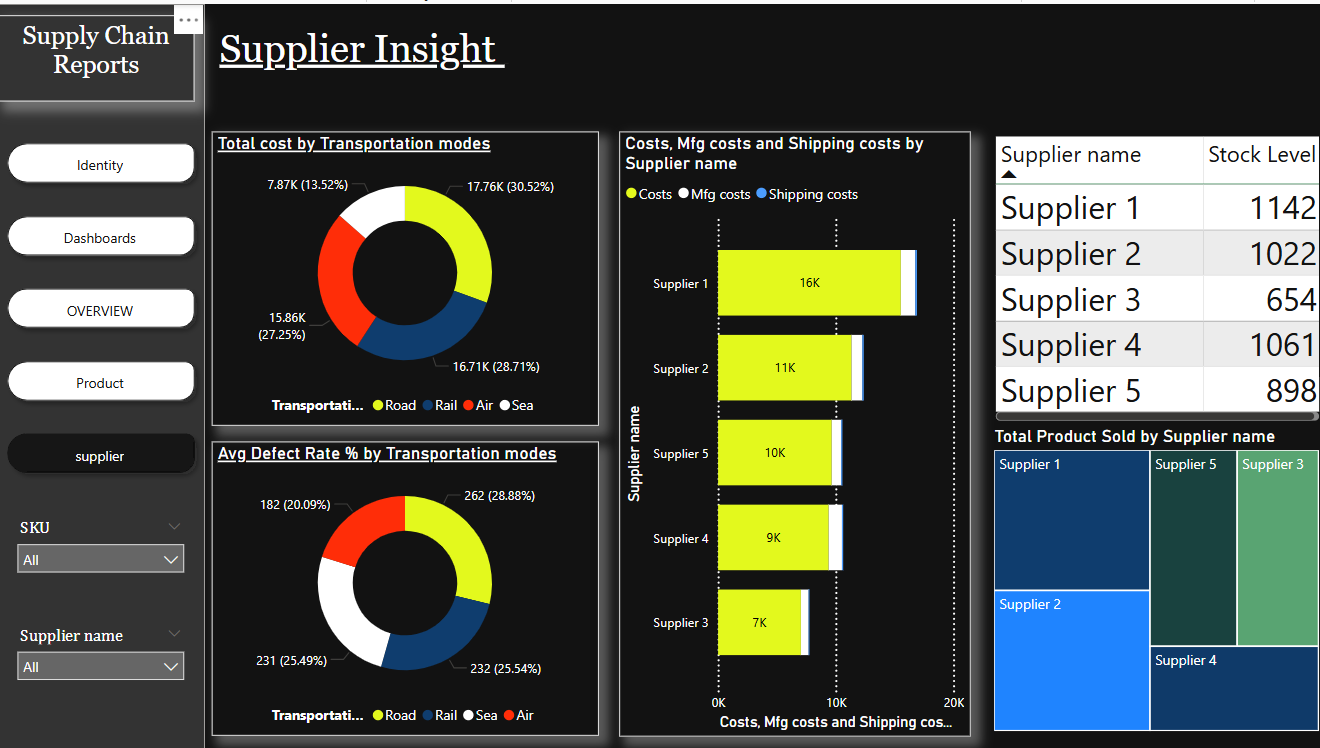

What the dashboard file says about the page in this screenshot:
{"tool":"powerbi","page":{"name":"supplier","canvas":[1280,720],"ordinal":4},"visuals":[{"type":"donutChart","fields":{"Category":["supply_chain_data.Transportation modes"],"Y":["_Measure.Total  cost"]},"box":[206.3,122.6,373.7,284.2],"z":0},{"type":"shape","box":[0,0,199.3,720.2],"z":1000},{"type":"donutChart","fields":{"Category":["supply_chain_data.Transportation modes"],"Y":["_Measure.Avg Defect Rate %"]},"box":[206.3,422.7,373.7,284.2],"z":2000},{"type":"barChart","fields":{"Category":["supply_chain_data.Supplier name"],"Y":["Sum(supply_chain_data.Costs)","Sum(supply_chain_data.Mfg costs)","Sum(supply_chain_data.Shipping costs)"]},"box":[600.2,122.6,339,584.3],"z":3000},{"type":"tableEx","fields":{"Values":["supply_chain_data.Supplier name","_Measure.Stock Level"]},"box":[956.6,122.6,323.2,284.2],"z":4000},{"type":"treemap","fields":{"Group":["supply_chain_data.Supplier name"],"Values":["_Measure.Total Product Sold"]},"box":[957,407,323,300],"z":5000},{"type":"textbox","box":[209.2,17.3,301.5,60.6],"z":6000},{"type":"pageNavigator","box":[0,126,199.3,336.3],"z":7000},{"type":"slicer","fields":{"Values":["supply_chain_data.SKU"]},"box":[8.6,491.6,181,78.3],"z":8000},{"type":"slicer","fields":{"Values":["supply_chain_data.Supplier name"]},"box":[8.6,594.3,181,78.3],"z":9000},{"type":"textbox","box":[0,11,189.5,83.2],"z":10000}]}

Visuals, with their boxes on the page's 1280x720 design canvas (x1, y1, x2, y2). These are canvas units, not pixel positions in the 1320x748 screenshot, which may show the page scaled, cropped or inside an application window:
donutChart - supply_chain_data.Transportation modes x _Measure.Total  cost: x1=206 y1=123 x2=580 y2=407
shape: x1=0 y1=0 x2=199 y2=720
donutChart - supply_chain_data.Transportation modes x _Measure.Avg Defect Rate %: x1=206 y1=423 x2=580 y2=707
barChart - supply_chain_data.Supplier name x Sum(supply_chain_data.Costs): x1=600 y1=123 x2=939 y2=707
tableEx - supply_chain_data.Supplier name x _Measure.Stock Level: x1=957 y1=123 x2=1280 y2=407
treemap - supply_chain_data.Supplier name x _Measure.Total Product Sold: x1=957 y1=407 x2=1280 y2=707
textbox: x1=209 y1=17 x2=511 y2=78
pageNavigator: x1=0 y1=126 x2=199 y2=462
slicer - supply_chain_data.SKU: x1=9 y1=492 x2=190 y2=570
slicer - supply_chain_data.Supplier name: x1=9 y1=594 x2=190 y2=673
textbox: x1=0 y1=11 x2=190 y2=94
